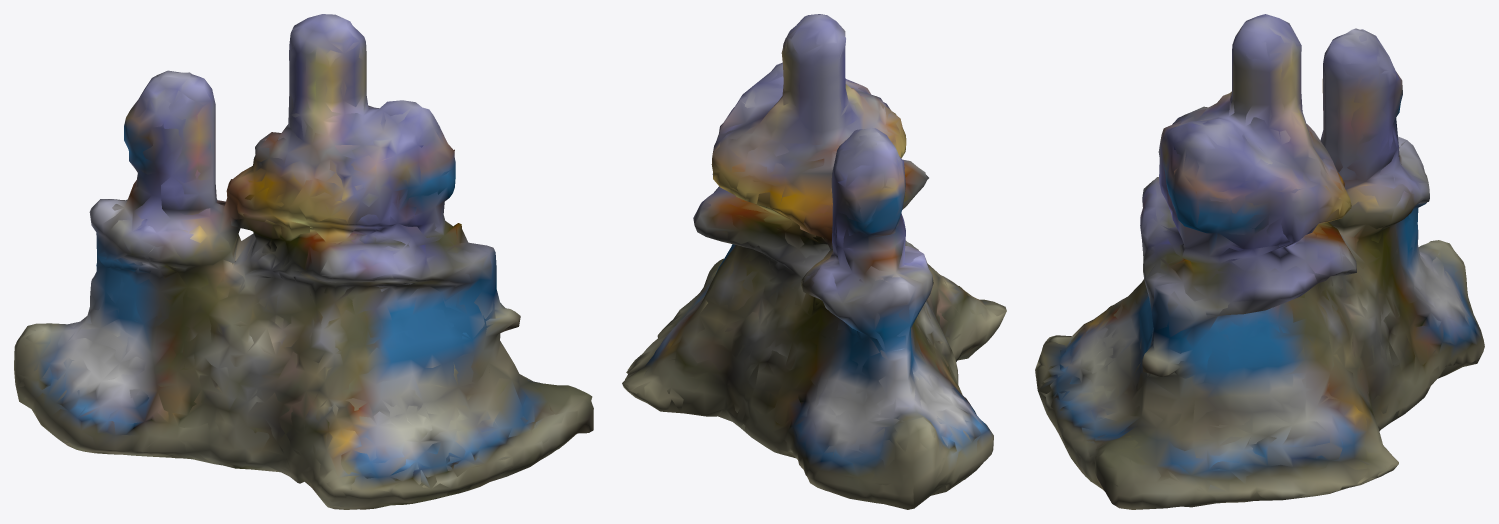
The model's file is allied_power_plant.glb.
3 views of the same model, side by side, from view 1: azimuth 30°, elevation 25°; view 2: azimuth 150°, elevation 25°; view 3: azimuth 270°, elevation 25° (orthographic). The views are drawn at different scales.
Visible parts, largest first — view 1: allied_power_plant; view 2: allied_power_plant; view 3: allied_power_plant.
Part boxes in pixels (bbox=[...]): allied_power_plant: bbox=[14, 14, 593, 509]; allied_power_plant: bbox=[622, 14, 1006, 509]; allied_power_plant: bbox=[1035, 14, 1484, 509].
Size of the model in its own units: 1.67 by 1.58 by 1.6.
